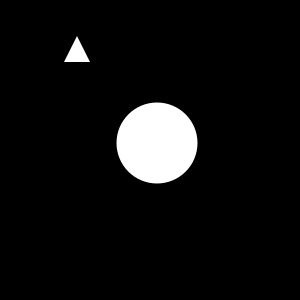rectangle: (116, 102, 198, 184)
triangle: (64, 36, 90, 62)
